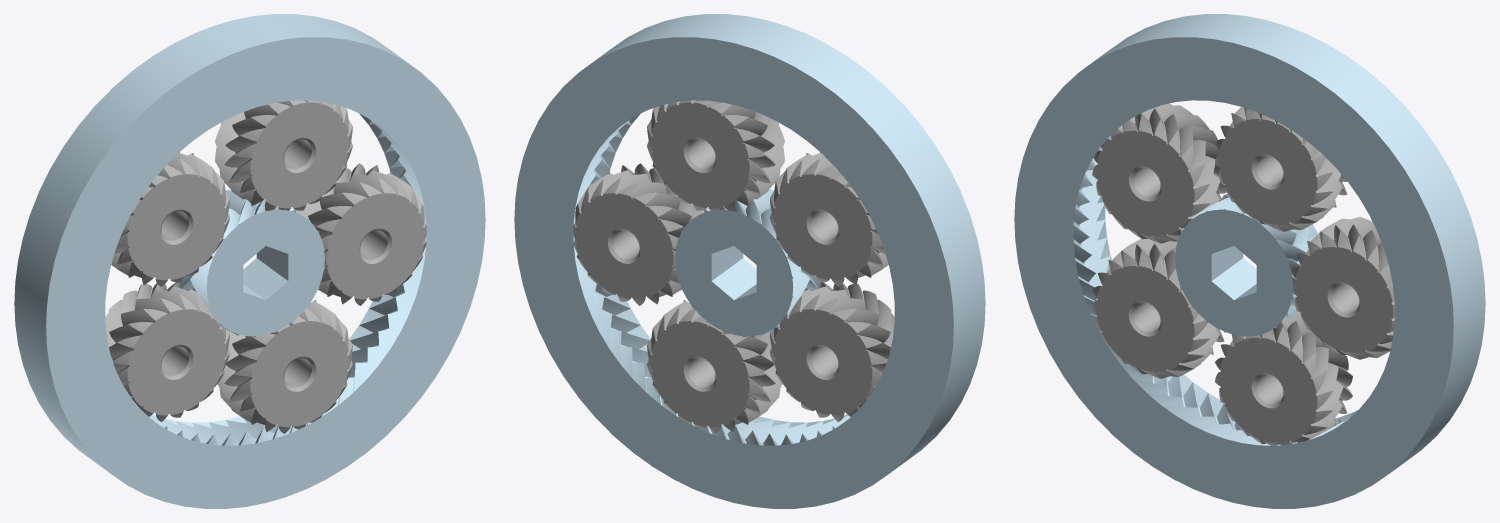
The model's file is herringbone_gearbox_drive.glb.
3 renders of one model, left to right at view 1: azimuth 30°, elevation 25°; view 2: azimuth 150°, elevation 25°; view 3: azimuth 330°, elevation 25°, orthographic.
Parts seen in each view (by area): view 1: Body1 (×7); view 2: Body1 (×7); view 3: Body1 (×7).
Boxes of the visible parts, box(x1,y1,x2,y2) form: Body1 (×7): box(14, 14, 485, 508); Body1 (×7): box(514, 14, 985, 508); Body1 (×7): box(1014, 14, 1485, 508).
Bounding box in the file's own units: 2.02 × 2.02 × 0.2522.
